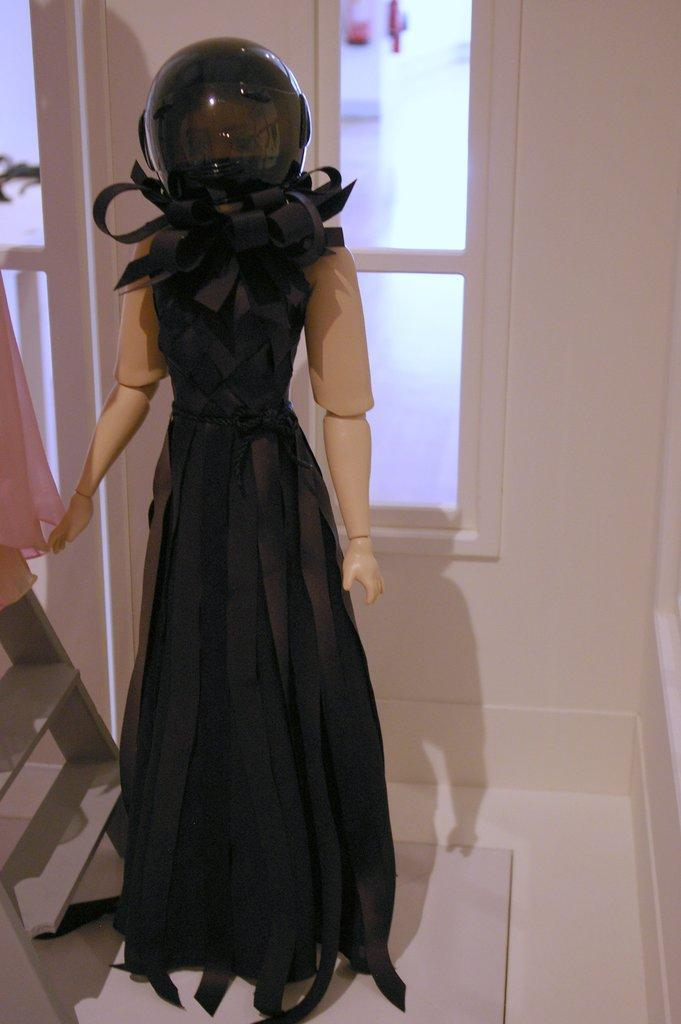helmet: (143, 33, 312, 217)
